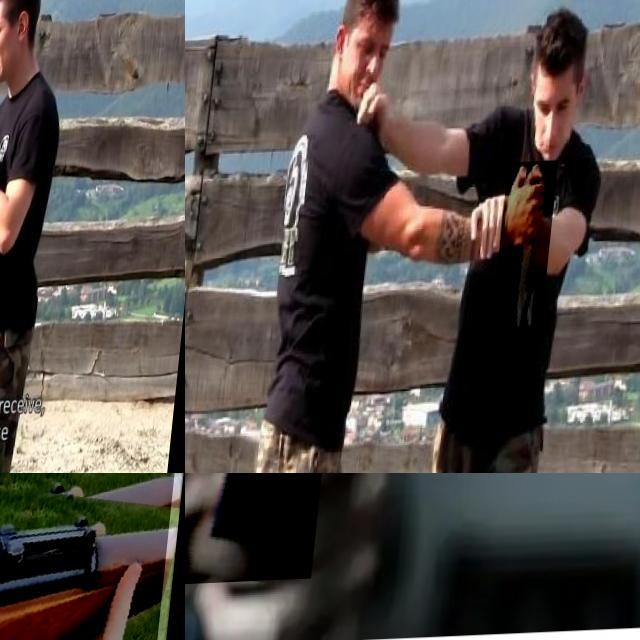-: (500, 165, 564, 342), (0, 90, 32, 210)
gun-knife-thesis - v11 Yolov5 augmented: (0, 473, 185, 640), (185, 473, 348, 632)
